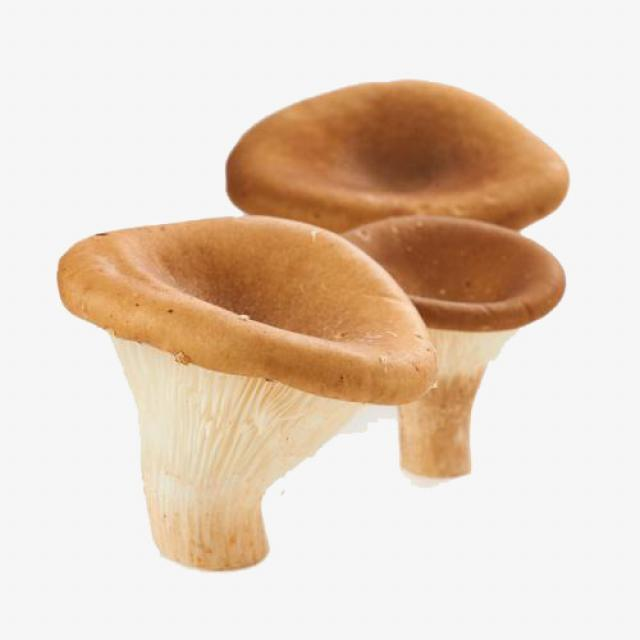Clitocybe maxima: (63, 214, 431, 577), (341, 214, 566, 491), (232, 80, 585, 229)
